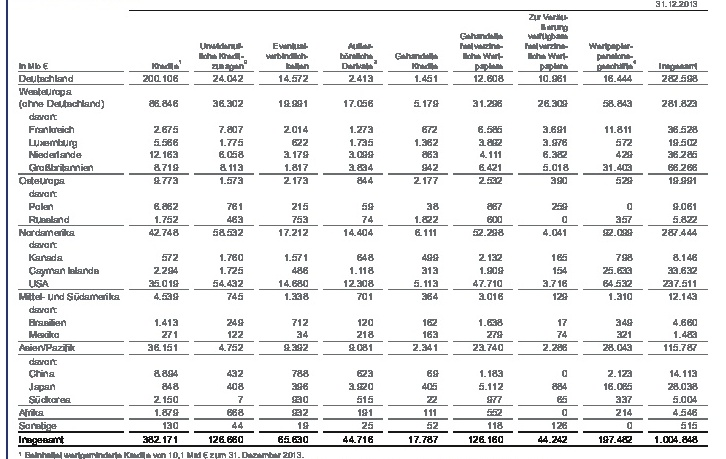table: (0, 0, 726, 459)
